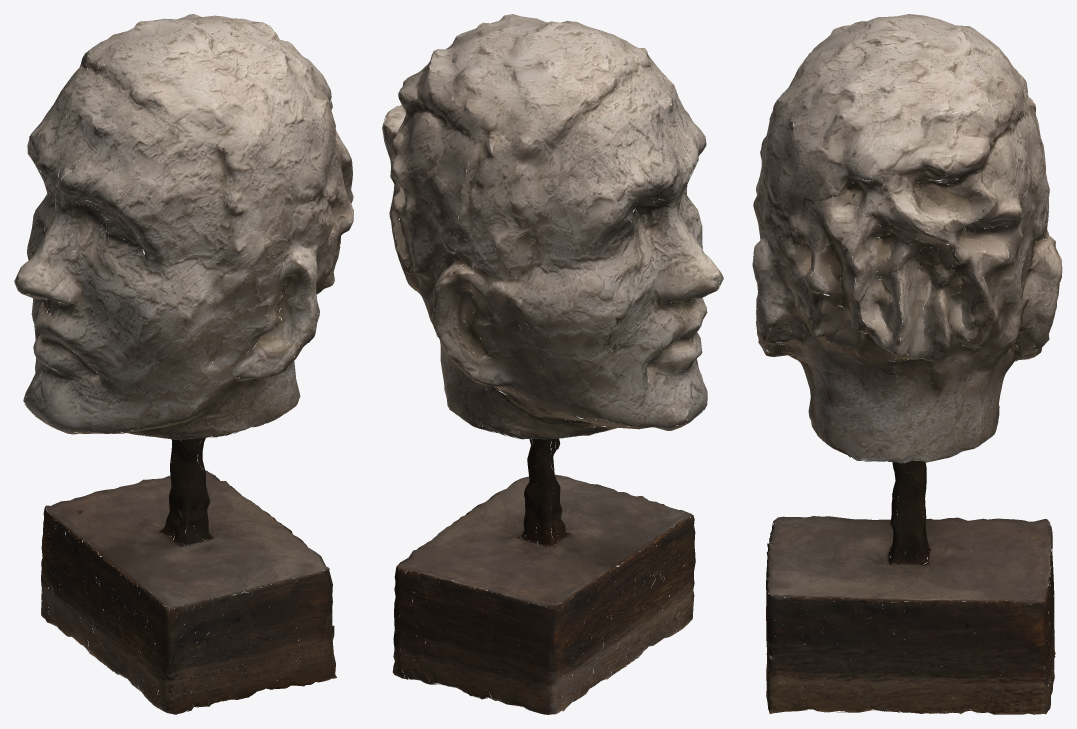
3 renders of one model, left to right at view 1: azimuth 30°, elevation 25°; view 2: azimuth 150°, elevation 25°; view 3: azimuth 270°, elevation 25°, orthographic. The views are drawn at different scales.
Parts seen in each view (by area): view 1: Mesh_0_Part_0; view 2: Mesh_0_Part_0; view 3: Mesh_0_Part_0.
Part boxes in pixels (x1,y1,x2,y2): Mesh_0_Part_0: (14, 14, 353, 714); Mesh_0_Part_0: (382, 14, 723, 714); Mesh_0_Part_0: (752, 14, 1062, 714).
Bounding box in the file's own units: 2.17 × 3.95 × 1.73.
Materials: 1 (1 with a texture image).
